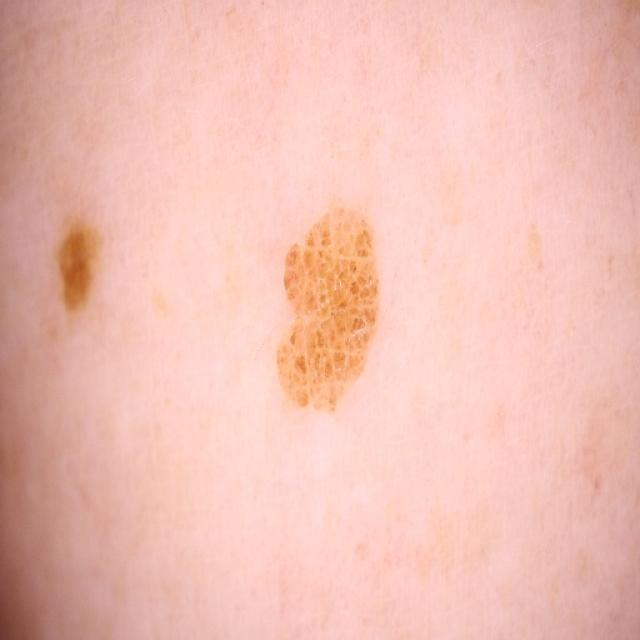Melanoma: (278, 209, 379, 410), (59, 224, 100, 311)
